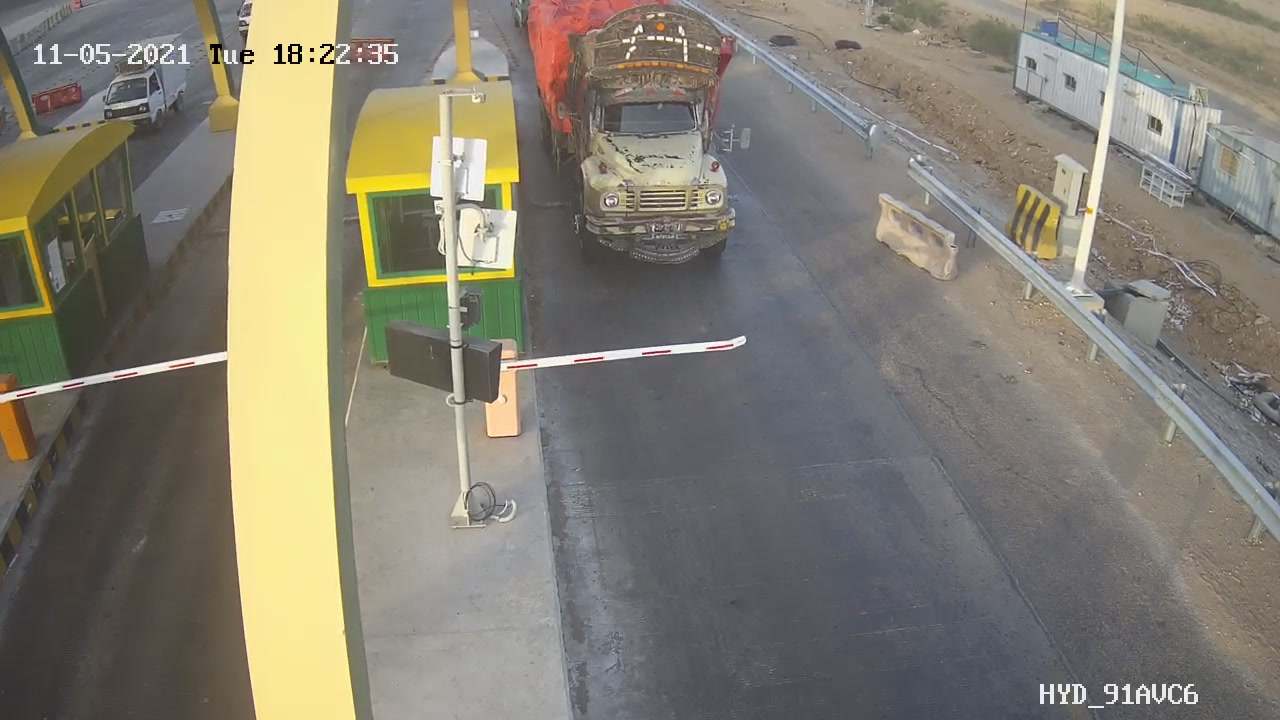F5: (534, 14, 764, 275)
